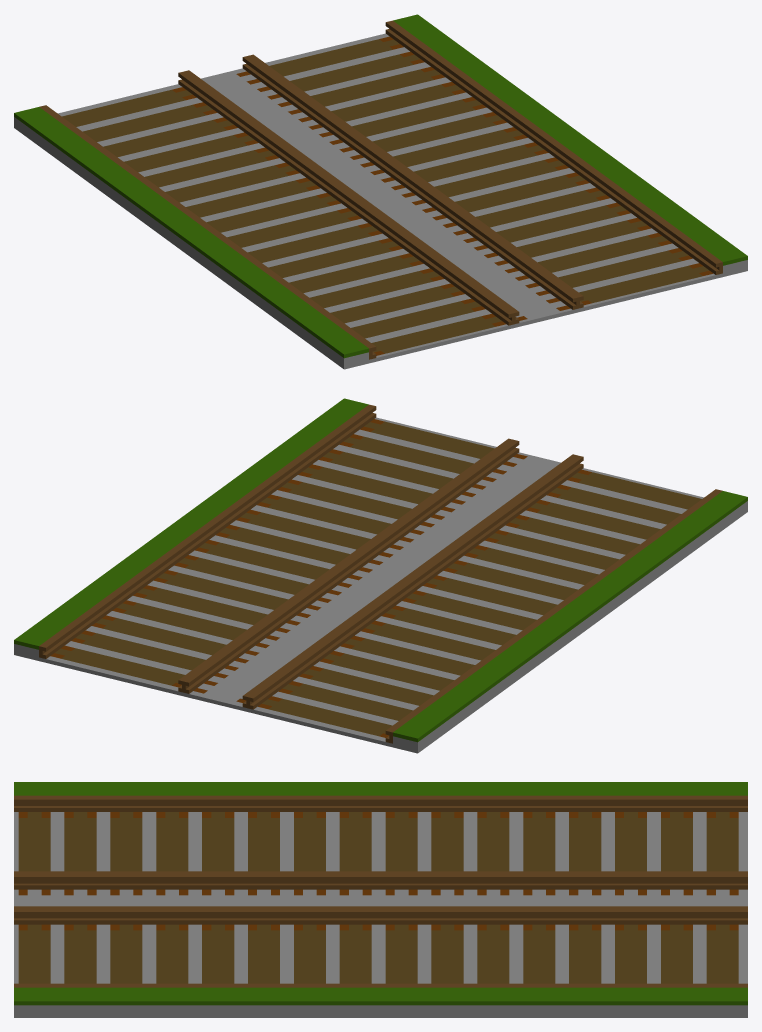
File: Trainvasion Moterman-4-StreetCar track Grass.obj
The picture shows the model from 3 angles, top to bottom: view 1: azimuth 30°, elevation 25°; view 2: azimuth 150°, elevation 25°; view 3: azimuth 270°, elevation 25°; orthographic projection. The views are drawn at different scales.
Parts seen in each view (by area): view 1: StreetCar track Grass; view 2: StreetCar track Grass; view 3: StreetCar track Grass.
Part boxes in pixels (<box>): StreetCar track Grass: <box>14,14,747,369</box>; StreetCar track Grass: <box>14,398,747,753</box>; StreetCar track Grass: <box>14,782,747,1017</box>.
Bounding box in the file's own units: 11.3 × 0.4 × 16.
1 material, 1 textured.
